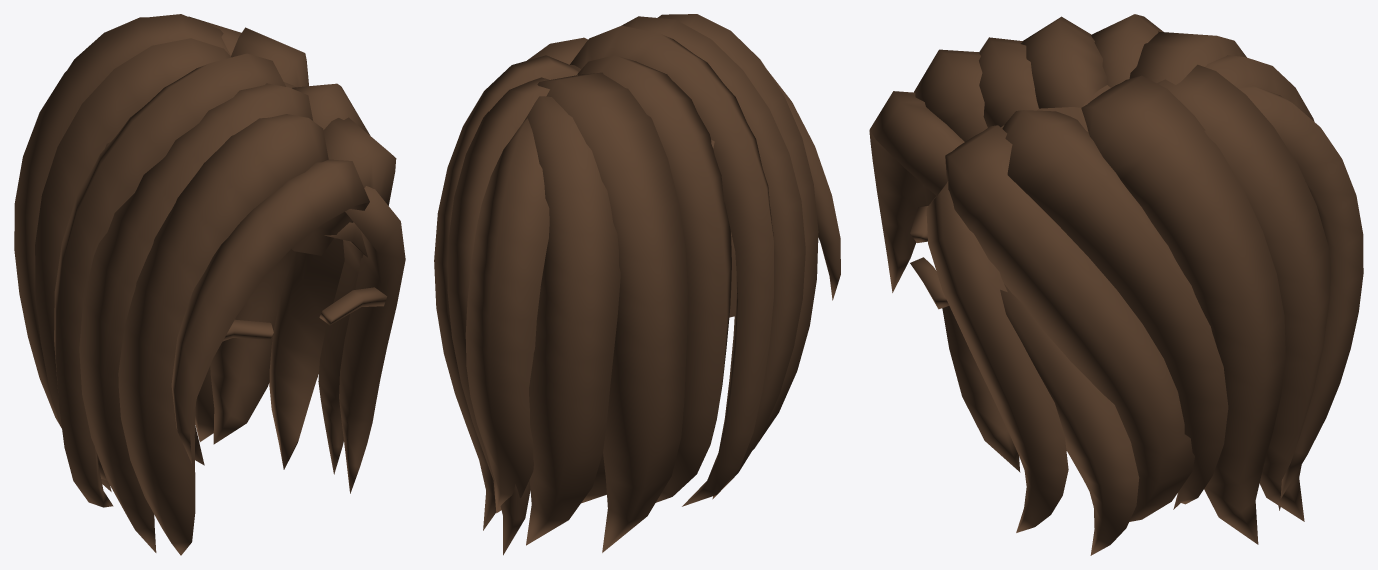
Rendered from umw_casual.glb.
3 views of the same model, side by side, from view 1: azimuth 30°, elevation 25°; view 2: azimuth 150°, elevation 25°; view 3: azimuth 270°, elevation 25° (orthographic). The views are drawn at different scales.
Parts seen in each view (by area): view 1: Casual; view 2: Casual; view 3: Casual.
Part boxes in pixels (left/top/right/bottom): Casual: left=14, top=14, right=405, bottom=555; Casual: left=434, top=14, right=840, bottom=555; Casual: left=869, top=14, right=1363, bottom=555.
Bounding box in the file's own units: 0.2268 × 0.335 × 0.3047.
